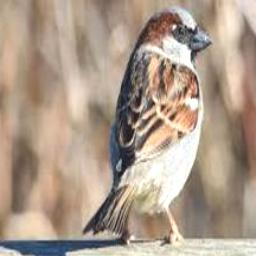Sparrow: (83, 5, 213, 244)
